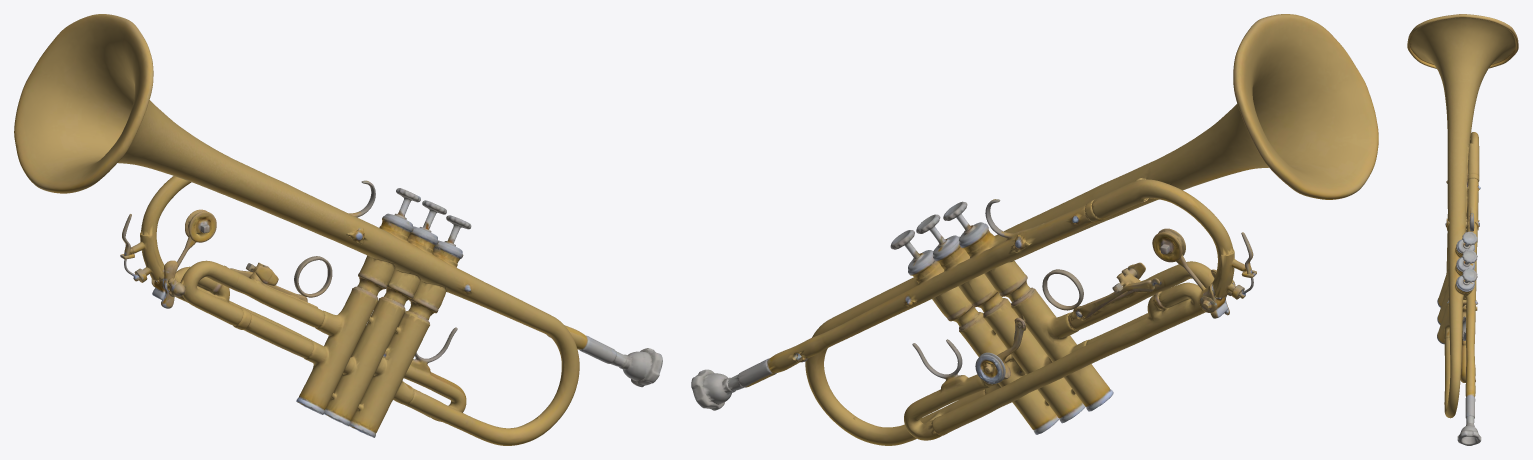
File: trompete.glb
The picture shows the model from 3 angles, left to right: view 1: azimuth 30°, elevation 25°; view 2: azimuth 150°, elevation 25°; view 3: azimuth 270°, elevation 25°; orthographic projection. The views are drawn at different scales.
Visible parts, largest first — view 1: tripo_node_1ae73cf6-045b-4af1-a627-91deb56b2c5b; view 2: tripo_node_1ae73cf6-045b-4af1-a627-91deb56b2c5b; view 3: tripo_node_1ae73cf6-045b-4af1-a627-91deb56b2c5b.
Part boxes in pixels (<box>): tripo_node_1ae73cf6-045b-4af1-a627-91deb56b2c5b: <box>14,14,662,445</box>; tripo_node_1ae73cf6-045b-4af1-a627-91deb56b2c5b: <box>691,14,1378,445</box>; tripo_node_1ae73cf6-045b-4af1-a627-91deb56b2c5b: <box>1407,14,1518,445</box>.
Size of the model in its own units: 0.9801 by 0.7541 by 0.2597.
1 material, 1 textured.
